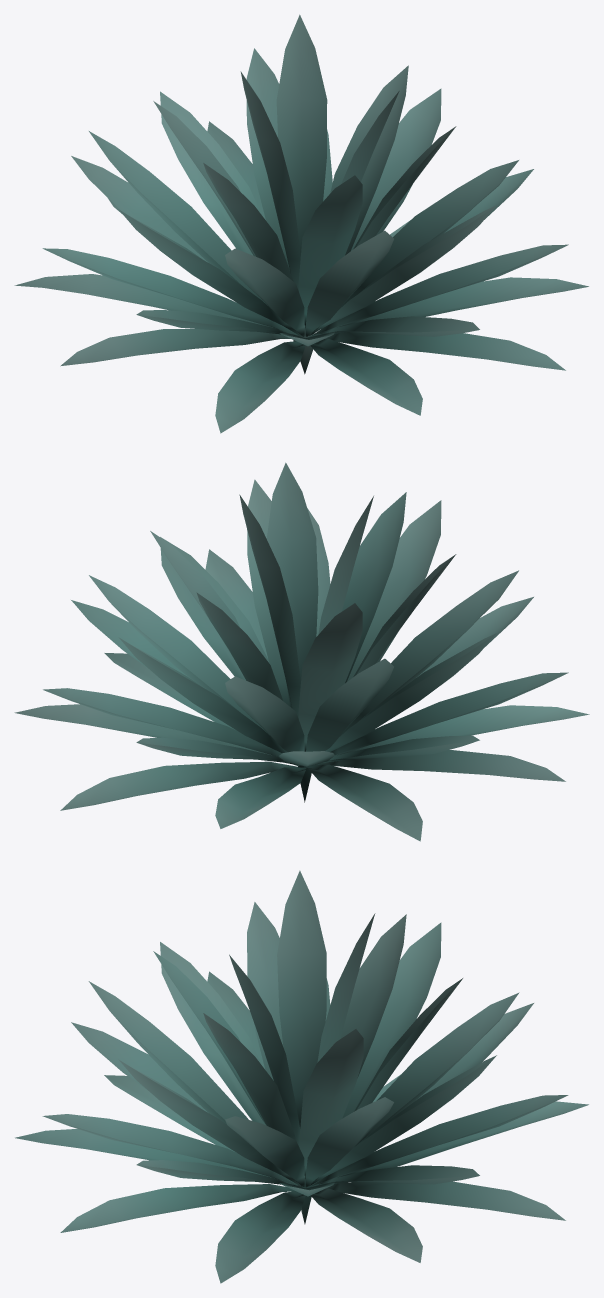
The model's file is plants-cacti-succulents-agave_v5.fbx.
3 renders of one model, top to bottom at view 1: azimuth 30°, elevation 25°; view 2: azimuth 150°, elevation 25°; view 3: azimuth 270°, elevation 25°, orthographic.
Parts seen in each view (by area): view 1: Agave_v5; view 2: Agave_v5; view 3: Agave_v5.
Part boxes in pixels (left/top/right/bottom): Agave_v5: left=14, top=14, right=588, bottom=433; Agave_v5: left=14, top=462, right=589, bottom=841; Agave_v5: left=15, top=870, right=588, bottom=1283.
Bounding box in the file's own units: 1.19 × 0.7527 × 1.2.
